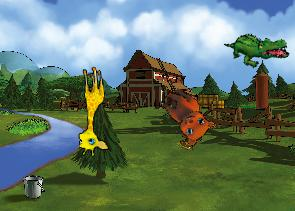bear: (149, 83, 220, 150)
crocodile: (223, 22, 291, 75)
giraffe: (71, 65, 109, 157)
